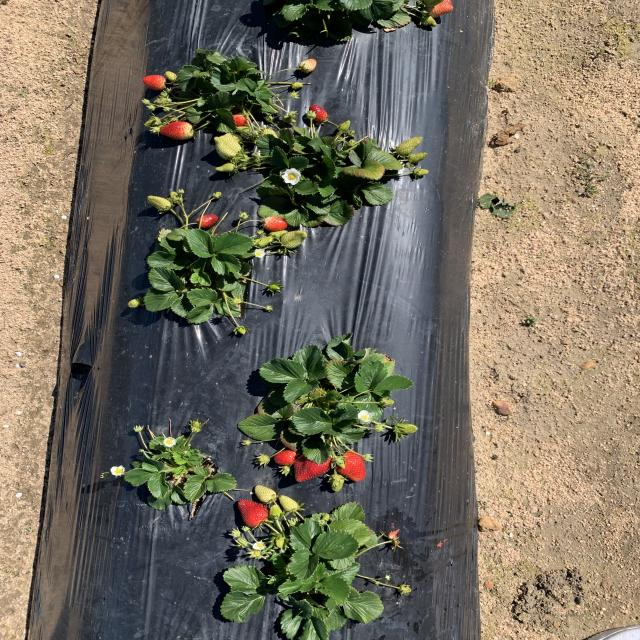unripe: (292, 448, 332, 483), (334, 449, 370, 483), (236, 499, 273, 528), (160, 122, 193, 138), (272, 446, 298, 466), (196, 213, 220, 229), (309, 102, 327, 122), (143, 75, 165, 89), (230, 114, 252, 128), (265, 216, 285, 230)
